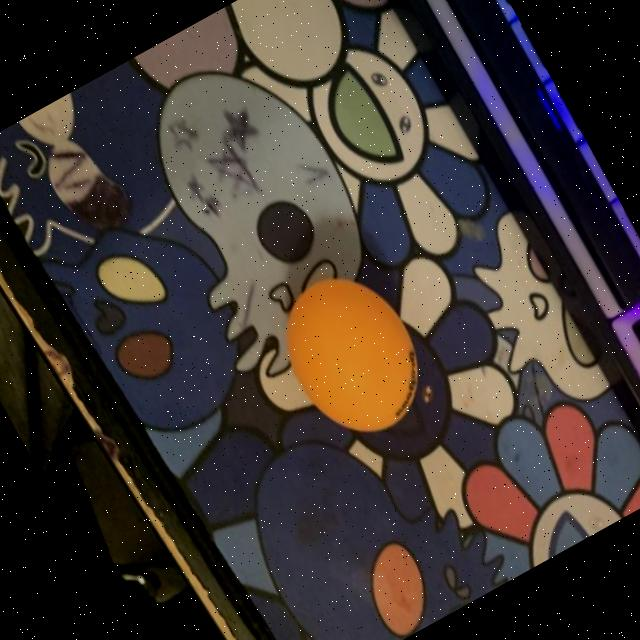ping-pong-ball: (254, 247, 454, 466)
